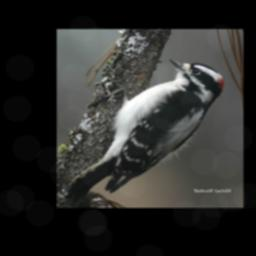Woodpecker: (66, 59, 224, 201)
